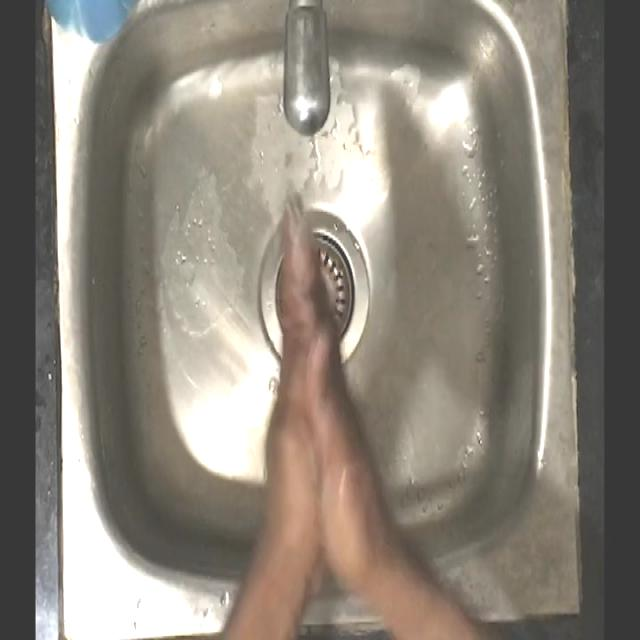step_1: (245, 178, 380, 545)
